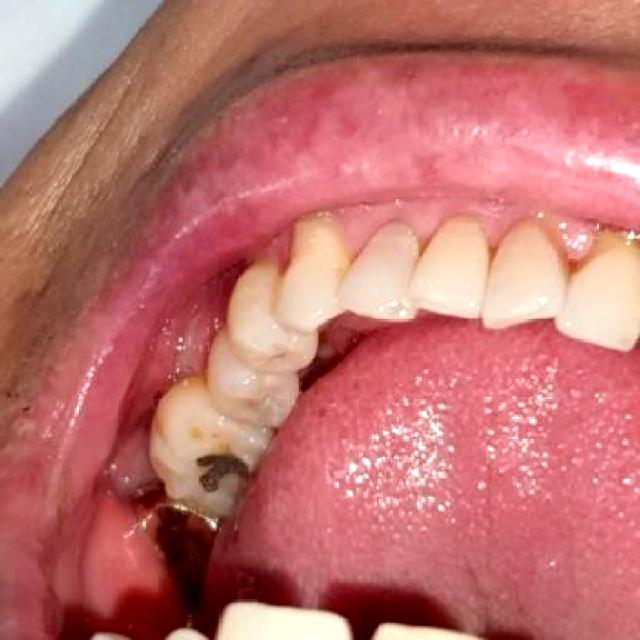Plaque: (478, 194, 598, 265), (241, 389, 275, 411), (200, 426, 231, 448), (261, 345, 292, 362)
